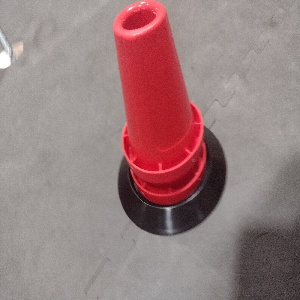Red_1: (111, 1, 206, 209)
